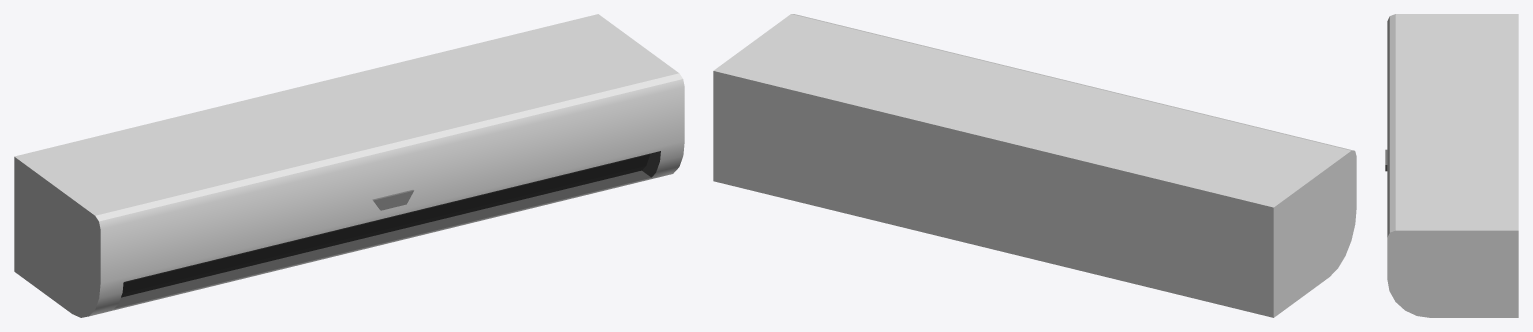
The model's file is AirConditioner_A.fbx.
3 views of the same model, side by side, from view 1: azimuth 30°, elevation 25°; view 2: azimuth 150°, elevation 25°; view 3: azimuth 270°, elevation 25° (orthographic). The views are drawn at different scales.
Visible parts, largest first — view 1: AirConditioner_A; view 2: AirConditioner_A; view 3: AirConditioner_A.
Part boxes in pixels (x1,y1,x2,y2): AirConditioner_A: [14, 14, 684, 317]; AirConditioner_A: [713, 14, 1356, 317]; AirConditioner_A: [1385, 14, 1518, 317].
Bounding box in the file's own units: 140 × 26.28 × 36.28.
